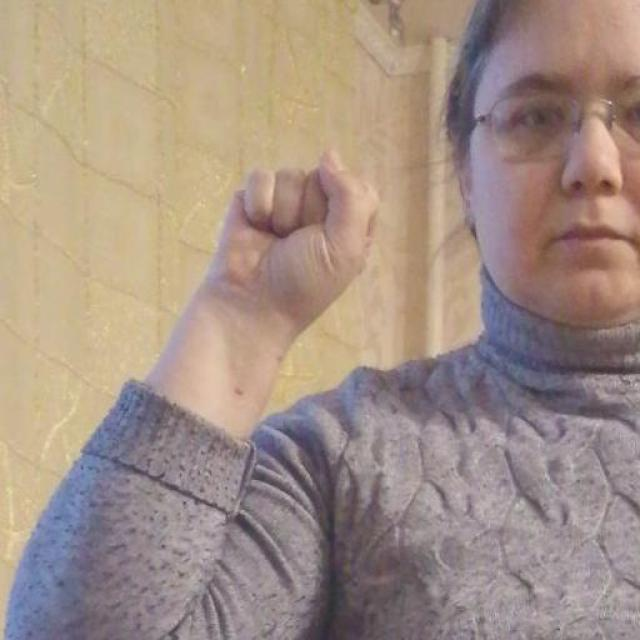hand: (202, 146, 380, 324)
